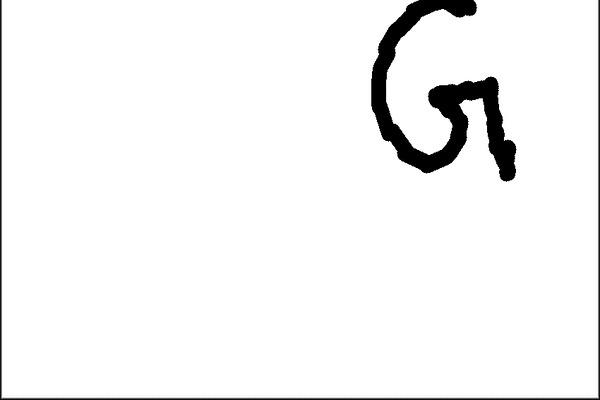G: (365, 4, 521, 188)
